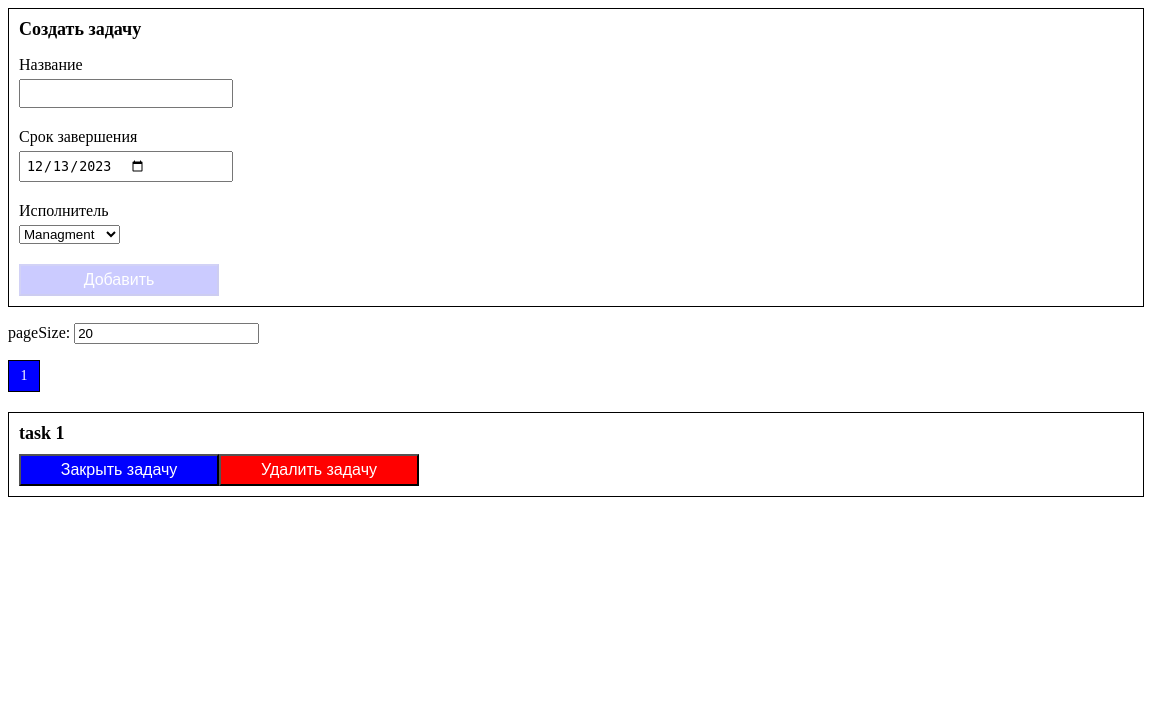
it: Action tests › Close task
The image size is (1152, 720).
Click the button with class "close-task" at (119, 470), box [19,454,219,486]
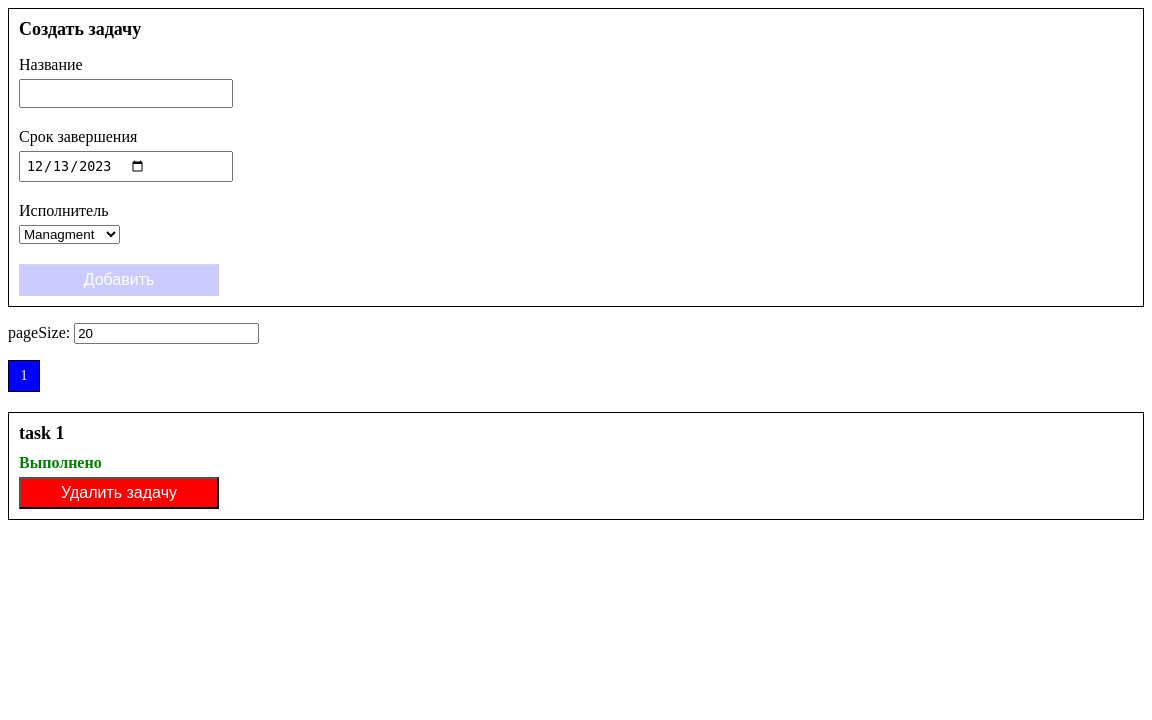
Result: no buttons with class "close-task" are shown
